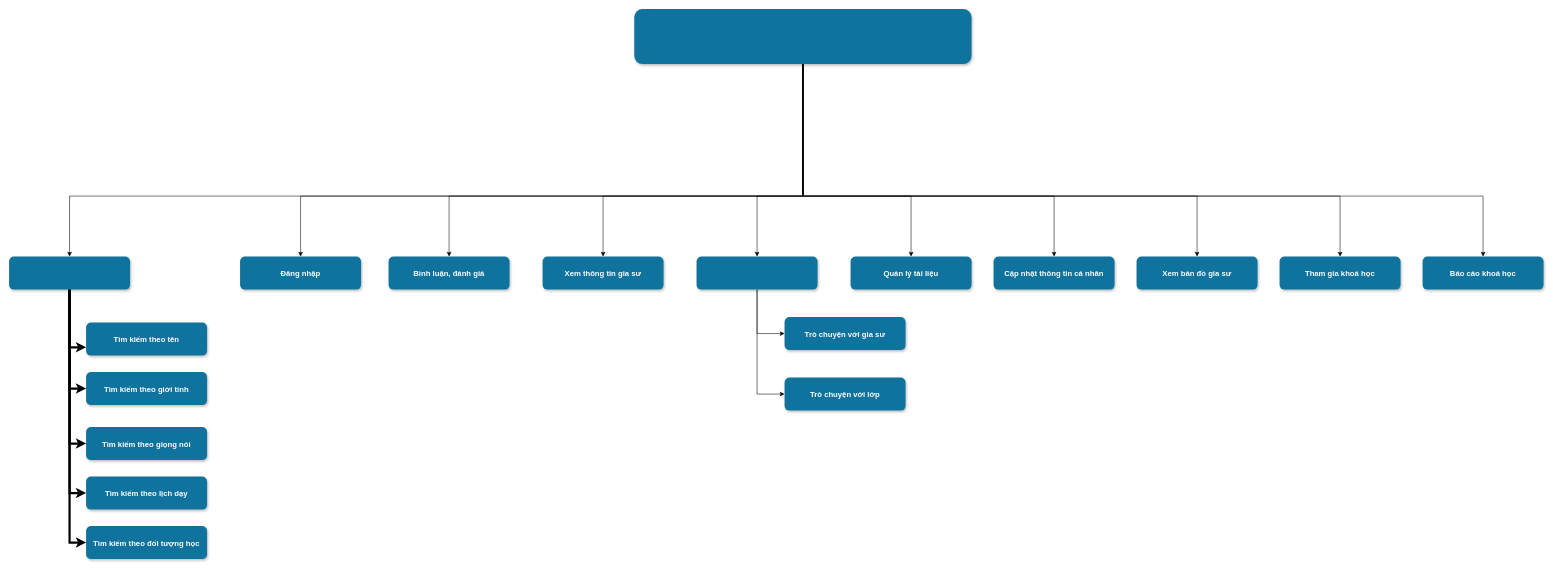
This 1553x568 diagram has some shape labels left out. Each missing label, with the centre of its shape:
"HỆ THỐNG CỘNG ĐỒNG GIA SƯ" belongs at point 803,37.
"Trò chuyện" belongs at point 757,273.
"Tìm kiếm khoá học" belongs at point 70,273.
